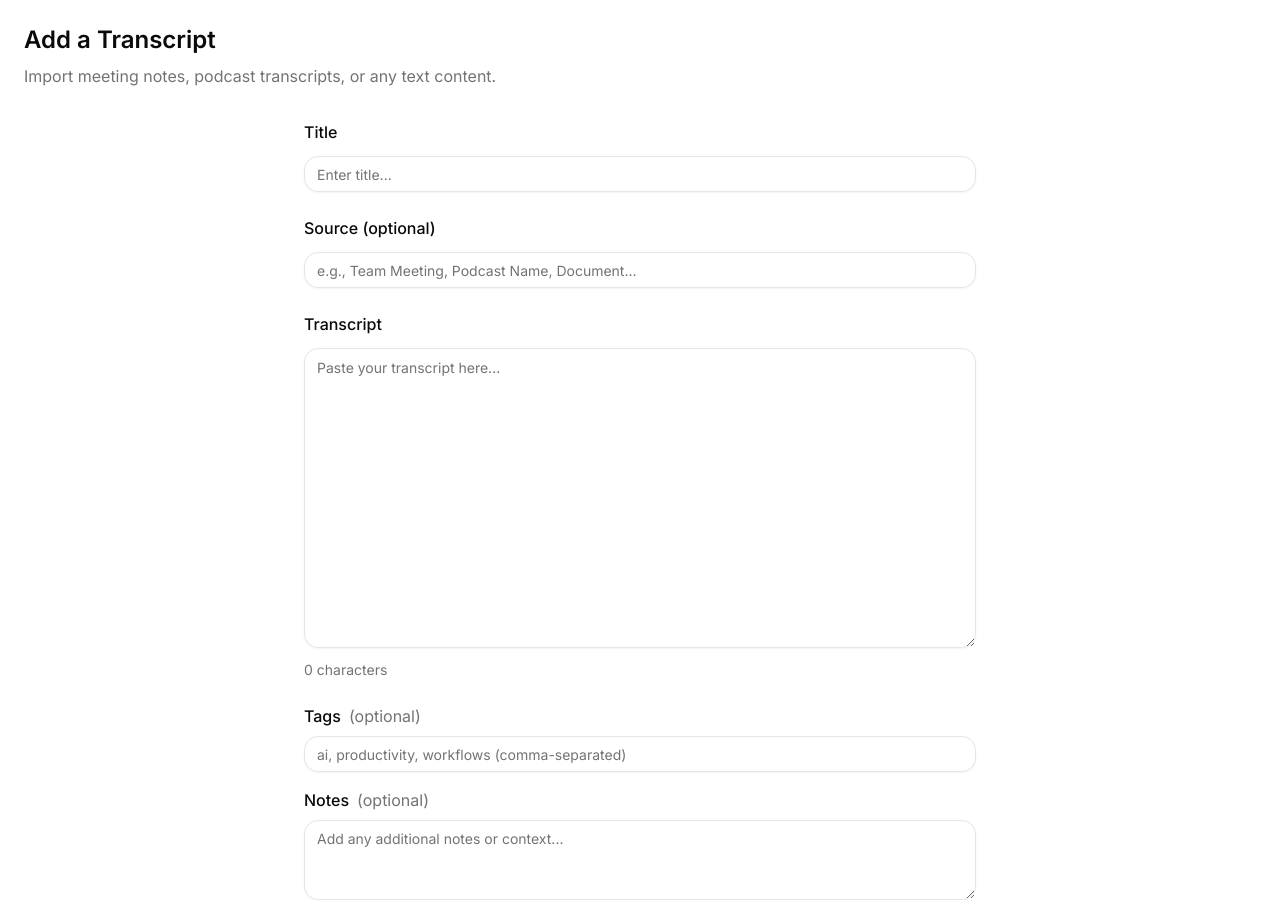
AddTranscriptPage › shows loading state during submission
Step 1. Type "Test Title" into the field labelled "Title" → point(640, 174), box [304,156,976,192]
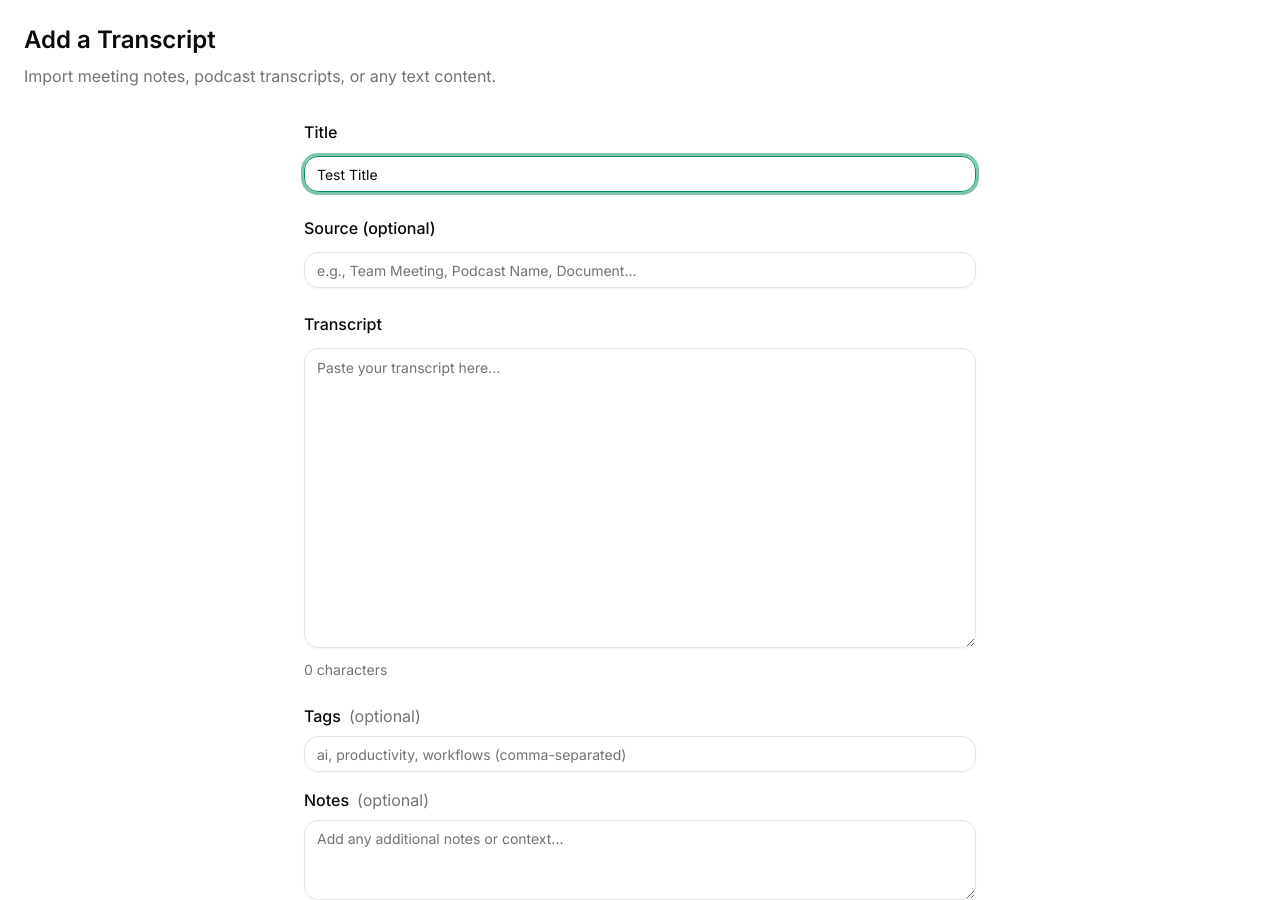
Step 2. Type "Test Source" into the field labelled "Source (optional)" → point(640, 270), box [304,252,976,288]
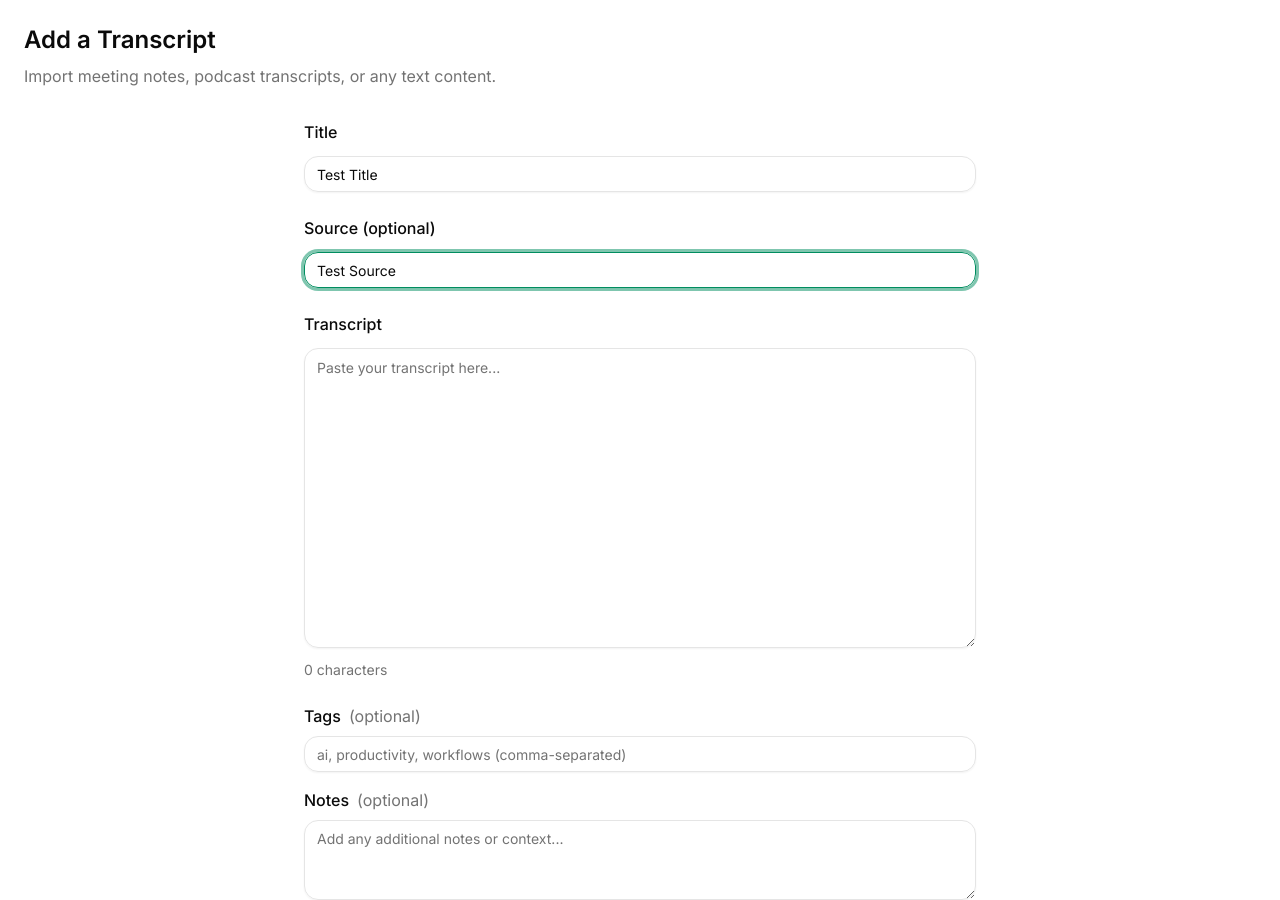
Step 3. Type "This is a long enough transcript content that meets the minimum requirement" into the text box labelled "Transcript" → point(640, 498), box [304,348,976,648]
(page scrolled)
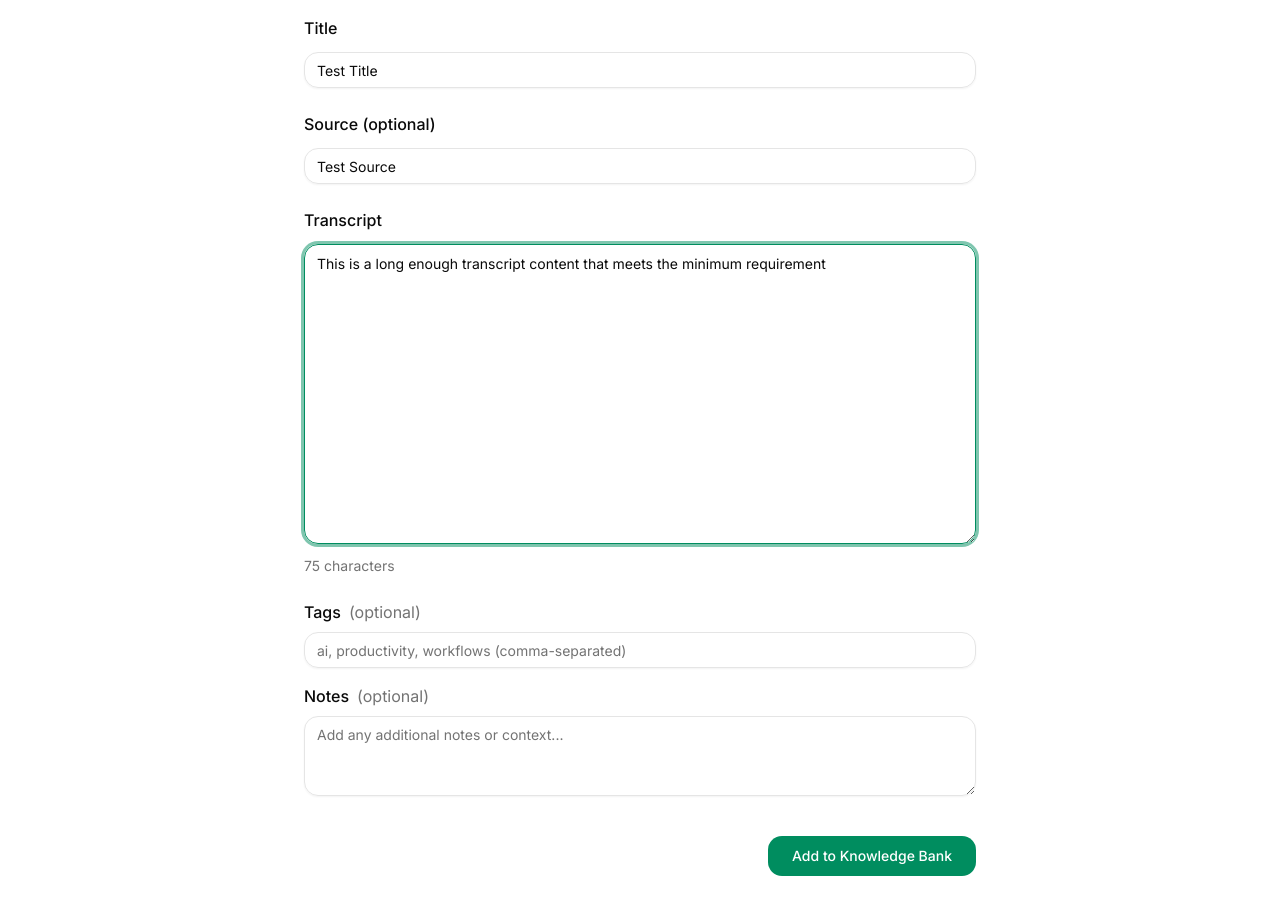
Step 4. Click the button "Add to Knowledge Bank" → point(872, 856), box [768,836,976,876]
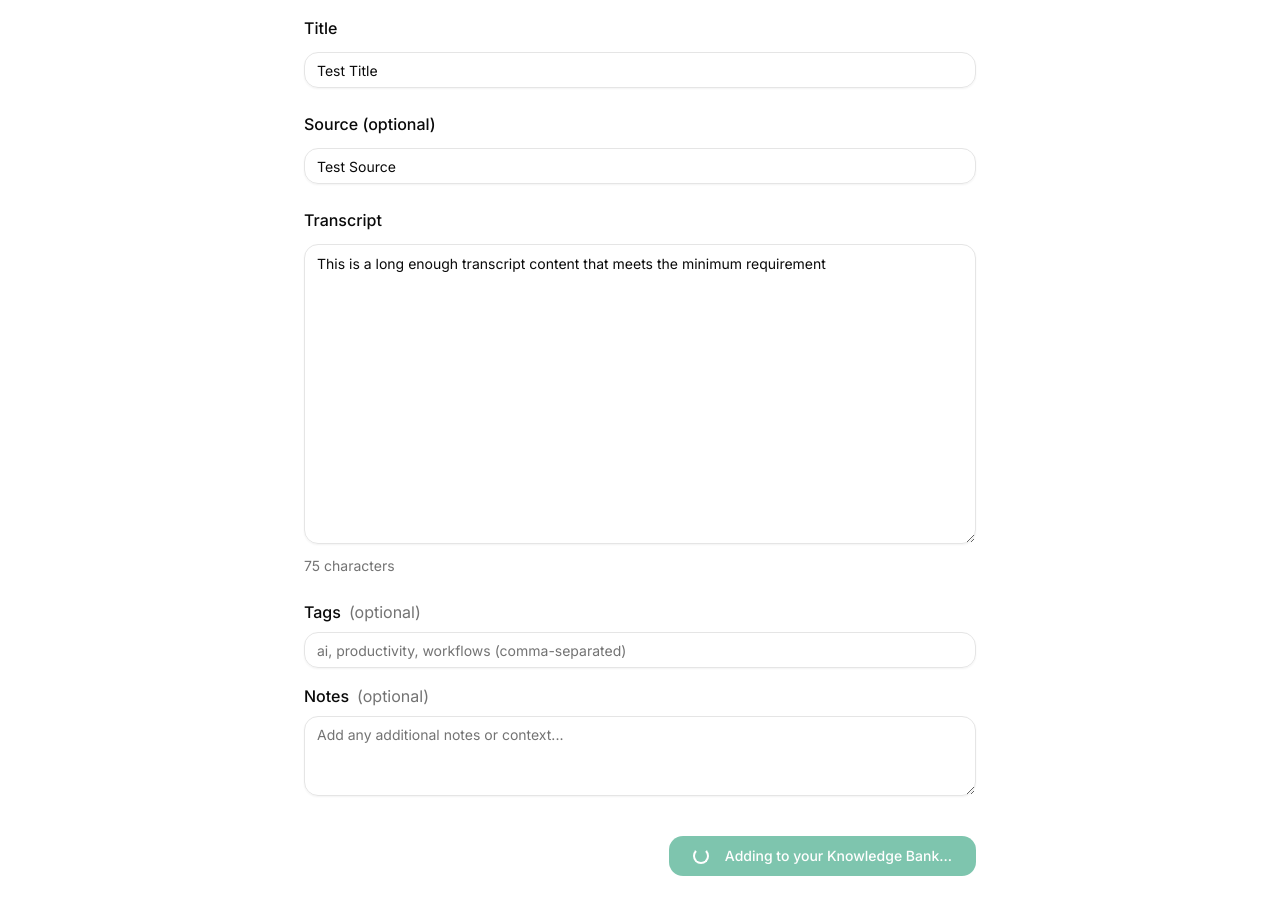
Expected: the button "Adding to your Knowledge Bank..." is disabled, [669,836,976,876]
